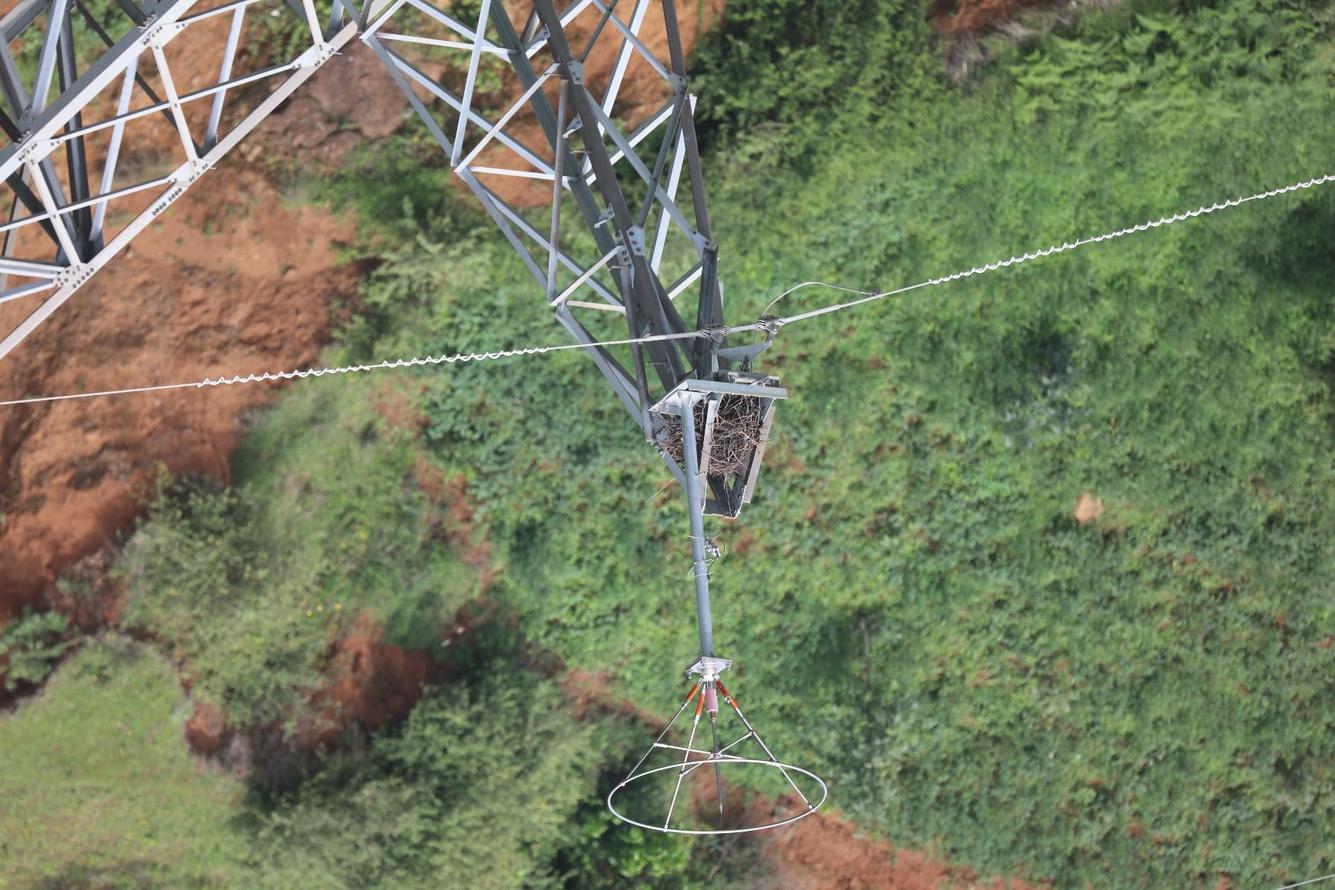nest: (659, 394, 762, 477)
